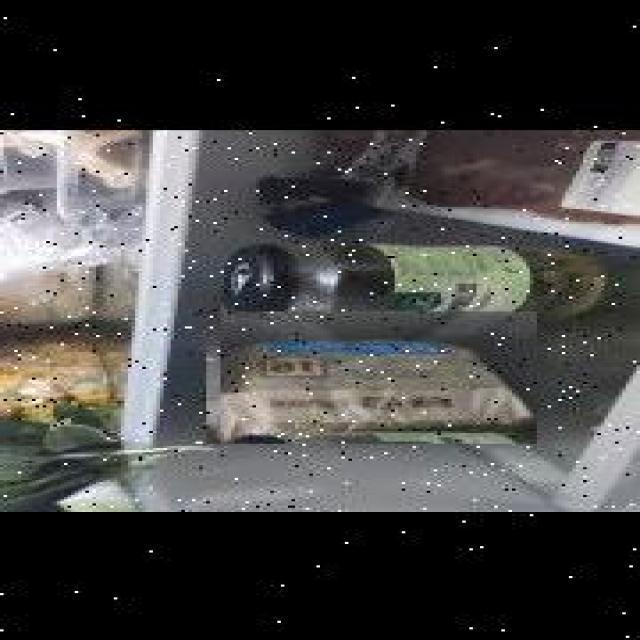bread: (206, 308, 537, 441)
pineapple: (0, 326, 220, 511)
